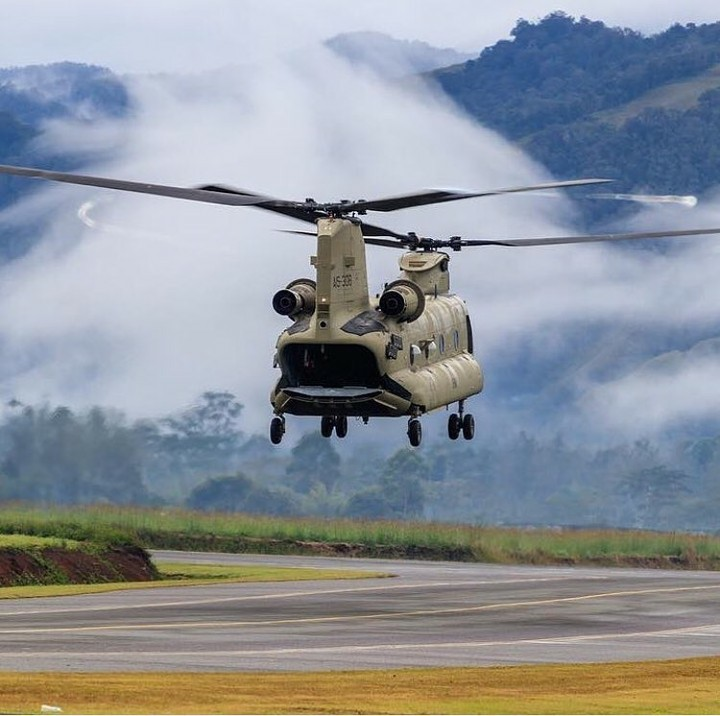chinook: (73, 166, 679, 455)
